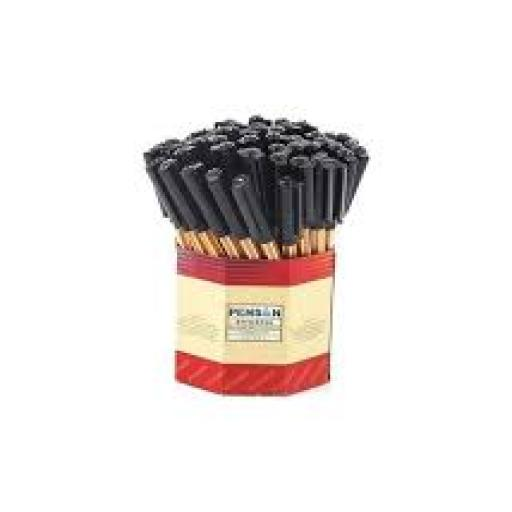tukenmez-kalem: (53, 47, 445, 438)
